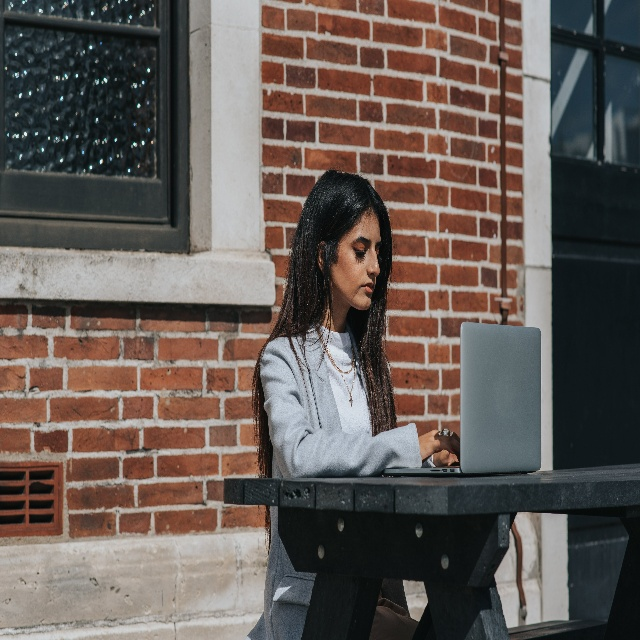Sin_guantes: (418, 429, 462, 463), (433, 446, 460, 467)
